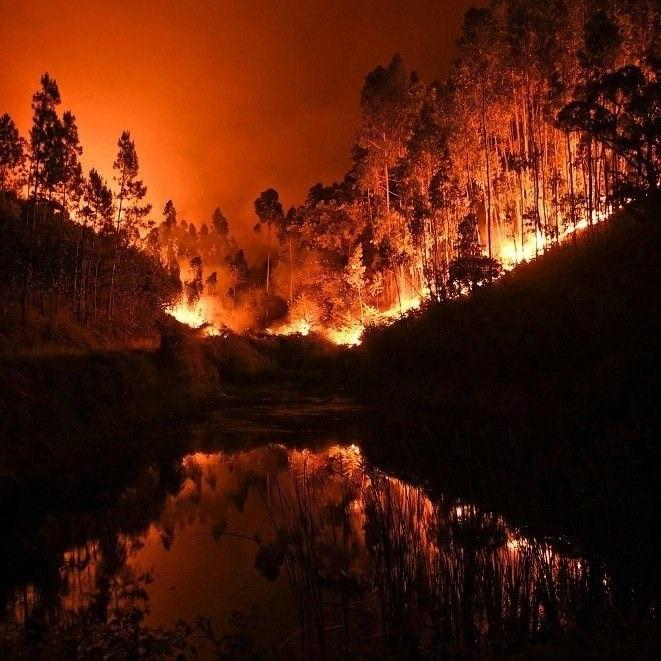fire: (428, 152, 617, 266), (290, 229, 447, 350), (125, 235, 263, 349)
